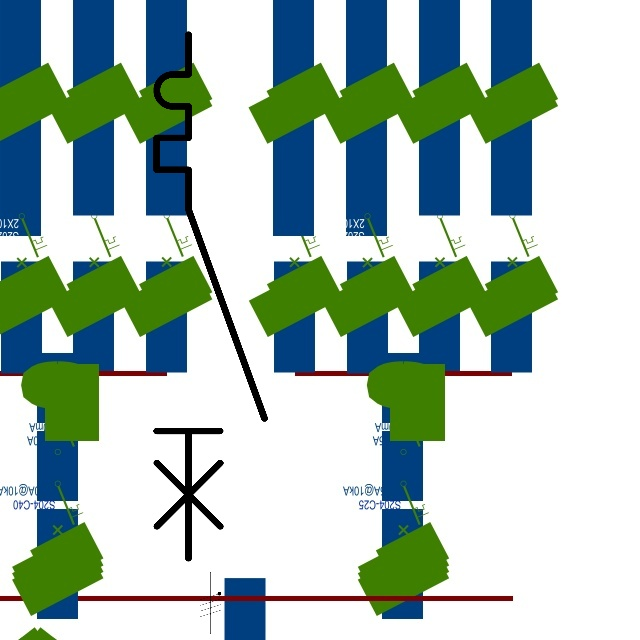interruptor_termomagnetico: (143, 21, 278, 572)
